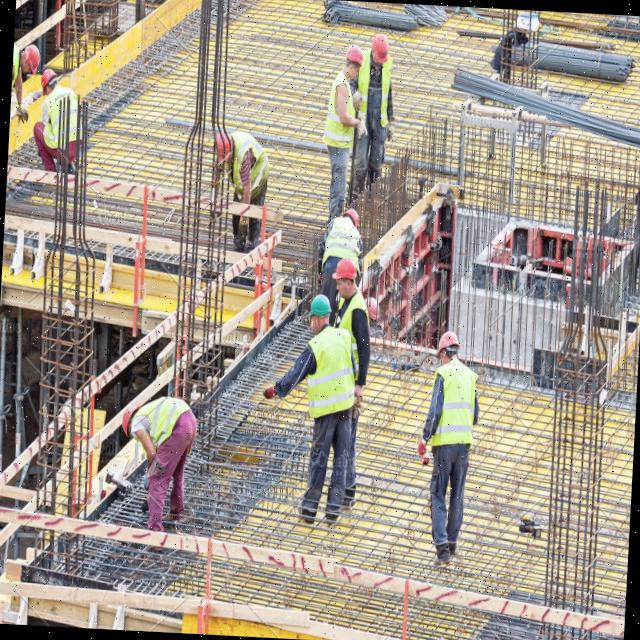Helmet: (436, 332, 463, 359), (308, 295, 334, 323), (331, 260, 360, 285), (23, 44, 41, 79), (372, 36, 390, 69), (216, 131, 235, 162), (121, 405, 137, 440), (39, 69, 60, 95), (344, 48, 367, 69), (341, 210, 364, 228)
Jacket: (309, 325, 355, 424), (438, 358, 479, 447), (136, 398, 187, 442), (44, 86, 78, 150), (360, 63, 394, 125), (329, 74, 357, 145), (346, 297, 369, 368), (234, 137, 268, 185), (328, 223, 360, 260)
